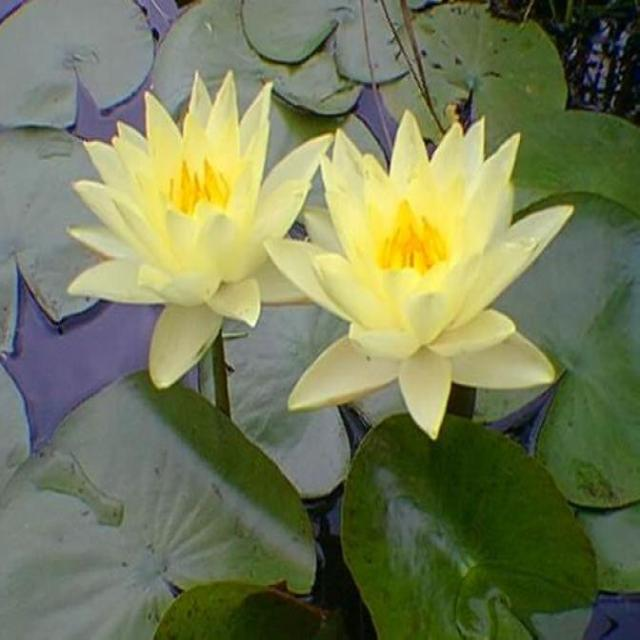rose: (48, 46, 640, 638)
